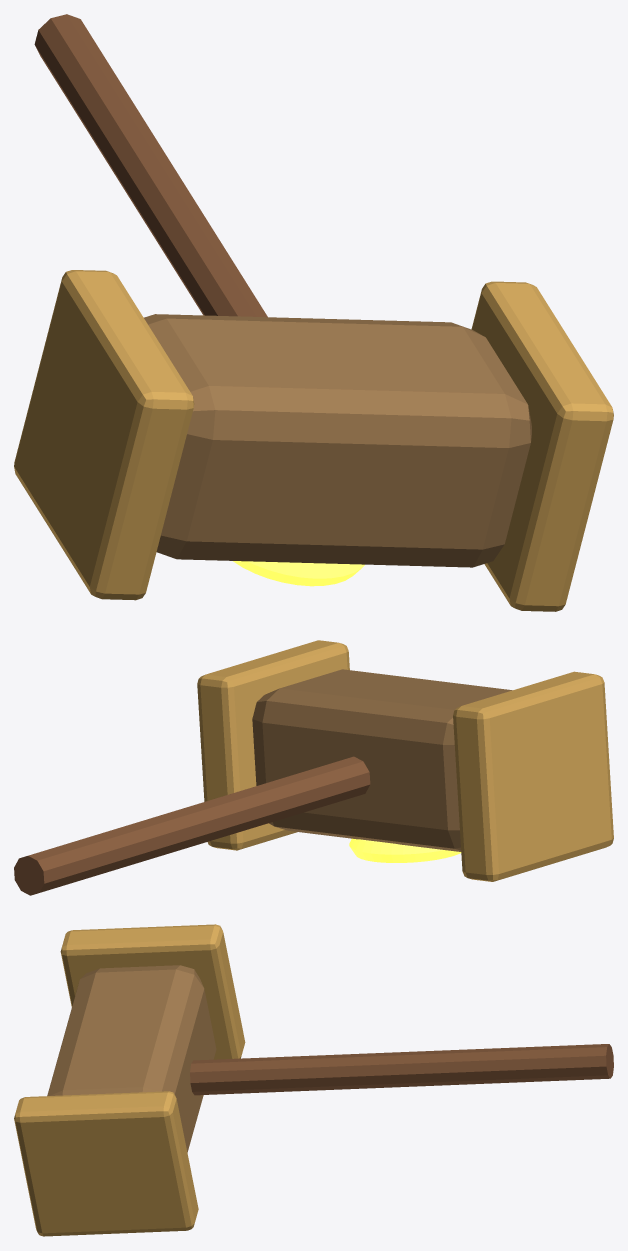
File: SM_BellHammer.fbx
3 renders of one model, top to bottom at view 1: azimuth 30°, elevation 25°; view 2: azimuth 150°, elevation 25°; view 3: azimuth 270°, elevation 25°, orthographic. The views are drawn at different scales.
Parts seen in each view (by area): view 1: SM_BellHammer; view 2: SM_BellHammer; view 3: SM_BellHammer.
Part boxes in pixels (left/top/right/bottom): SM_BellHammer: left=14, top=14, right=613, bottom=611; SM_BellHammer: left=14, top=640, right=613, bottom=895; SM_BellHammer: left=14, top=924, right=613, bottom=1236.
Size of the model in its own units: 1.53 by 2.5 by 0.9397.
